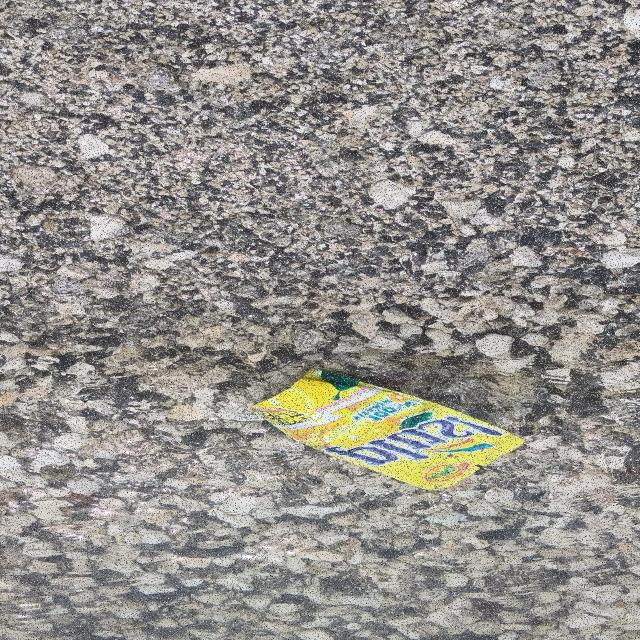plastic_waste: (251, 369, 530, 492)
